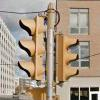Traffic light: (17, 11, 87, 82)
